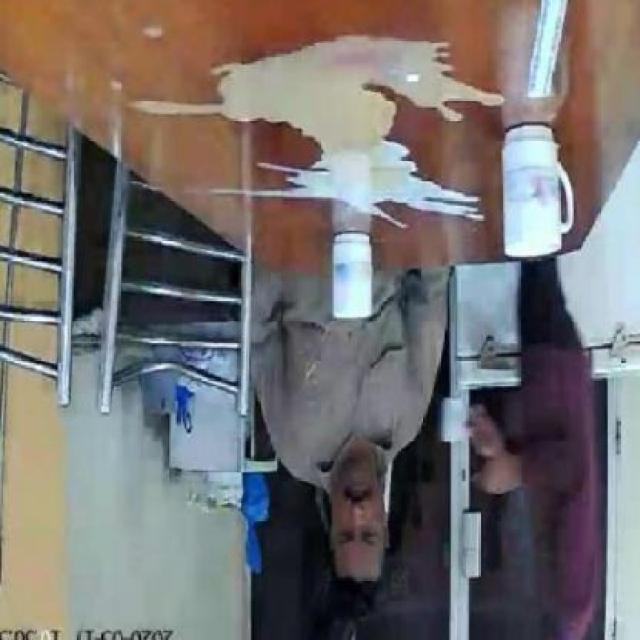spillage: (161, 37, 505, 215)
